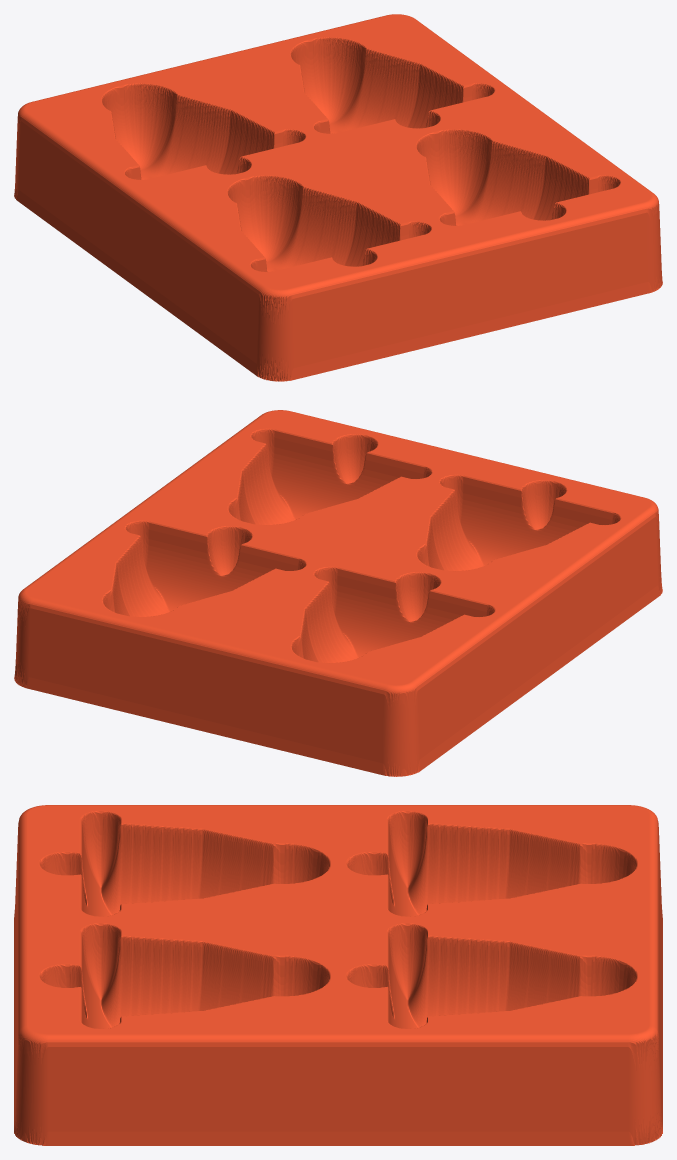
Rendered from mold.glb.
3 views of the same model, one above another, from view 1: azimuth 30°, elevation 25°; view 2: azimuth 150°, elevation 25°; view 3: azimuth 270°, elevation 25° (orthographic). The views are drawn at different scales.
Parts seen in each view (by area): view 1: geometry_0; view 2: geometry_0; view 3: geometry_0.
Boxes of the visible parts, box(x1,y1,x2,y2) form: geometry_0: box(14, 14, 662, 381); geometry_0: box(14, 410, 662, 776); geometry_0: box(14, 805, 662, 1145).
Size of the model in its own units: 0.1505 by 0.031 by 0.1721.
